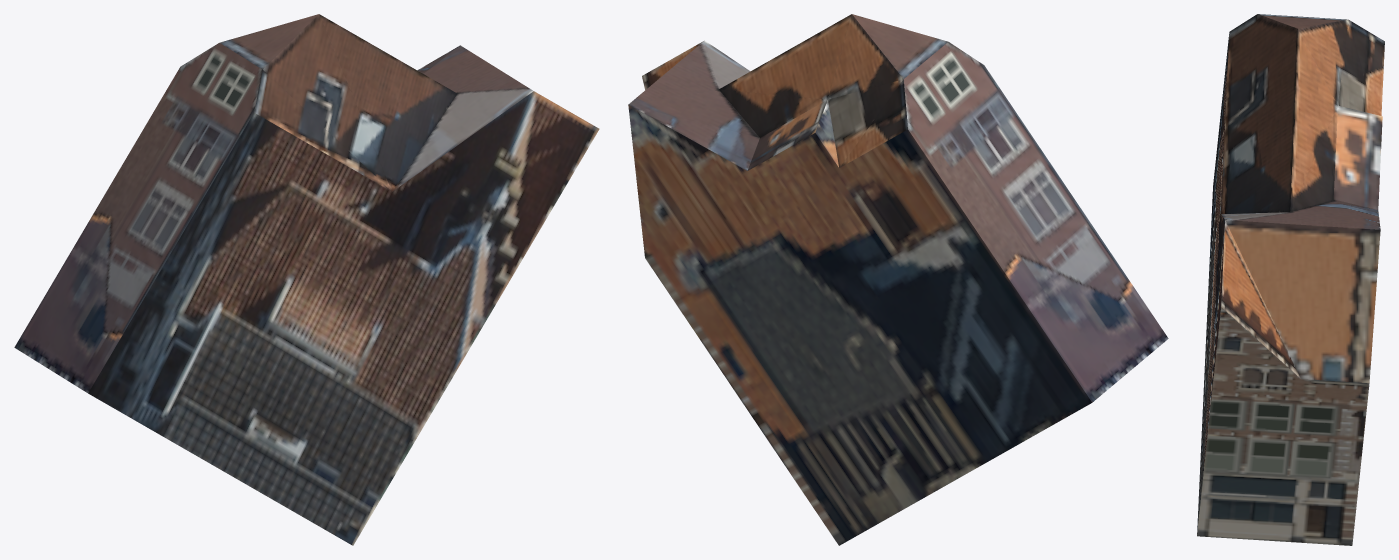
3 renders of one model, left to right at view 1: azimuth 30°, elevation 25°; view 2: azimuth 150°, elevation 25°; view 3: azimuth 270°, elevation 25°, orthographic. The views are drawn at different scales.
Parts seen in each view (by area): view 1: BAG_0599100000760365 (×3); view 2: BAG_0599100000760365 (×5); view 3: BAG_0599100000760365 (×5).
Part boxes in pixels (bbox=[...]): BAG_0599100000760365 (×3): bbox=[14, 14, 599, 545]; BAG_0599100000760365 (×5): bbox=[628, 14, 1168, 545]; BAG_0599100000760365 (×5): bbox=[1197, 14, 1384, 545].
Size of the model in its own units: 25.21 by 23.46 by 7.62.
Materials: 5 (5 with a texture image).
